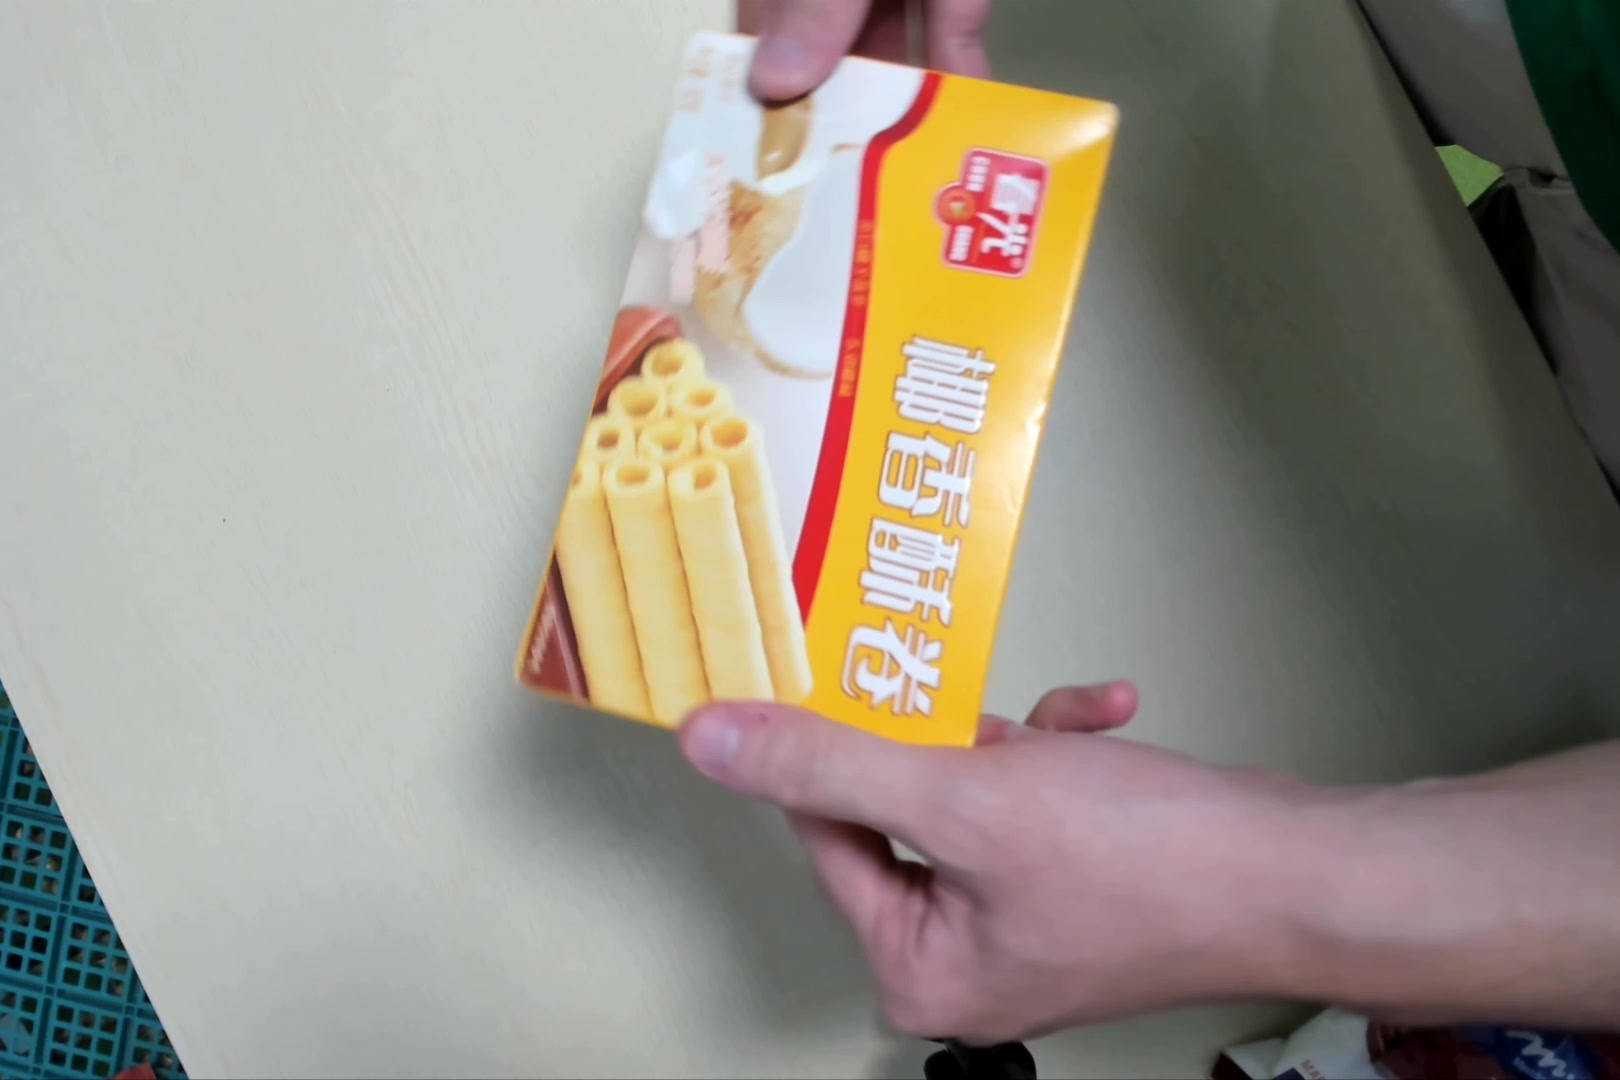BiscuitsCrackersCookies_0-99g_NonHalal_NonHealthy: (533, 43, 1132, 767)
